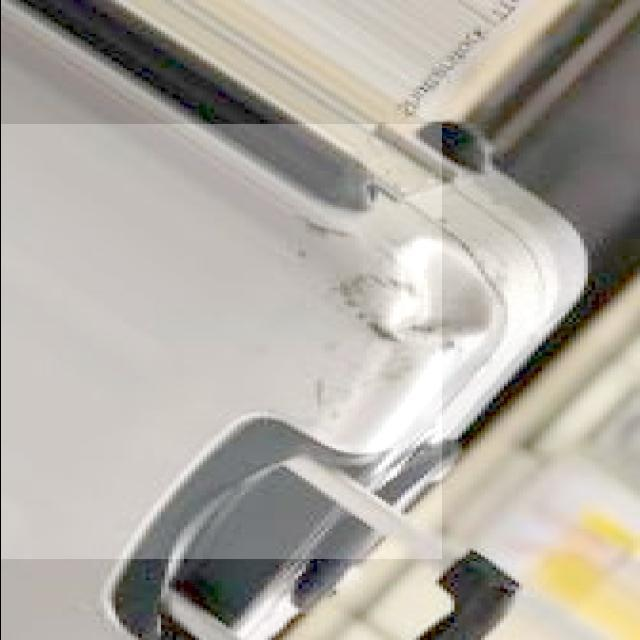Damage-bag: (338, 236, 490, 339)
